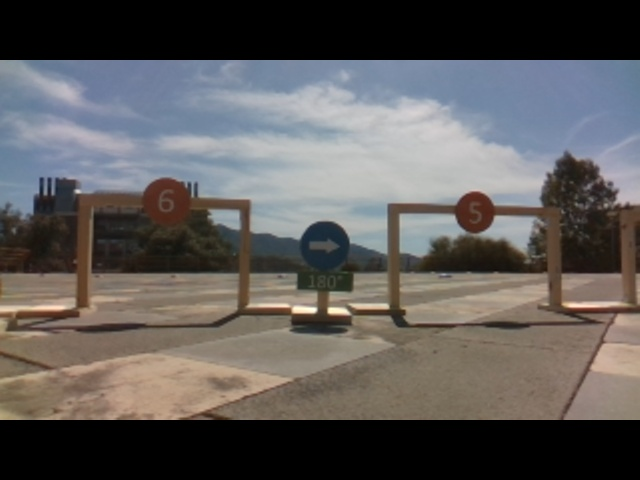180_degree: (292, 267, 357, 293)
arrow_right: (299, 218, 351, 270)
checkpoint_foot: (538, 294, 607, 314), (35, 296, 96, 318), (237, 296, 293, 314), (347, 298, 405, 314)
checkpoint_side: (72, 189, 97, 307), (613, 206, 640, 305), (544, 201, 567, 304), (237, 195, 253, 304)
checkpoint_signal: (74, 190, 254, 212), (386, 200, 564, 217), (384, 199, 403, 307)
five: (456, 188, 496, 232)
six: (142, 174, 190, 225)
